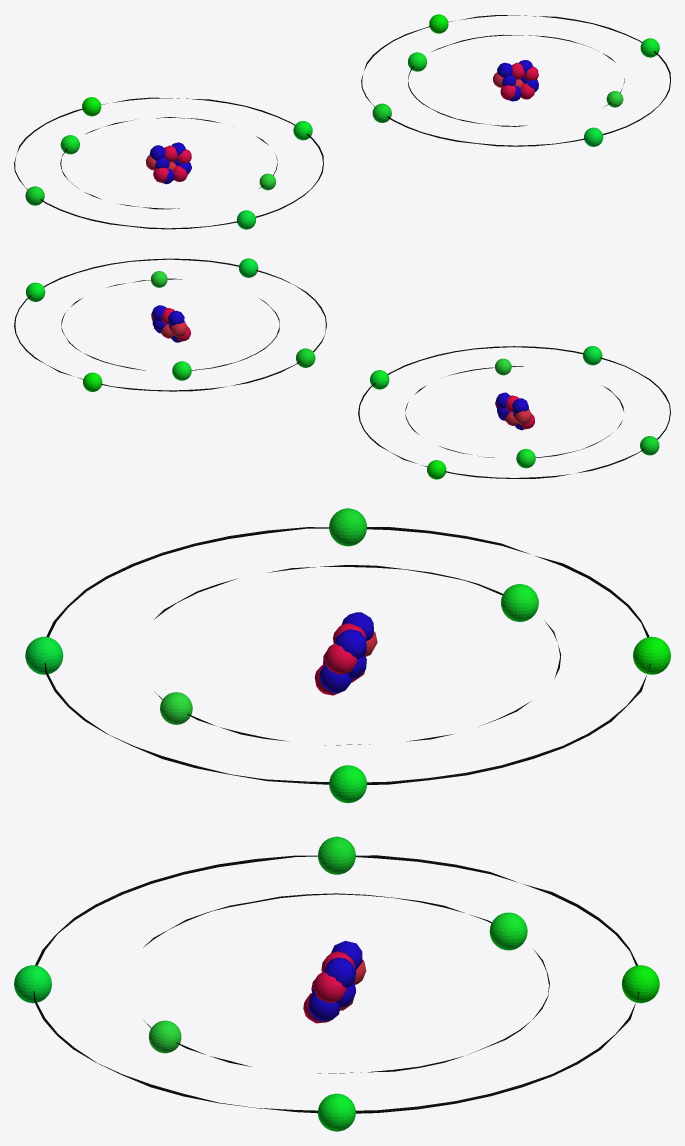
Rendered from atom_bond.glb.
The picture shows the model from 3 angles, top to bottom: view 1: azimuth 30°, elevation 25°; view 2: azimuth 150°, elevation 25°; view 3: azimuth 270°, elevation 25°; orthographic projection. The views are drawn at different scales.
Parts seen in each view (by area): view 1: Sphere.006; view 2: Sphere.006; view 3: Sphere.006.
Part boxes in pixels (<box>): Sphere.006: <box>14,14,670,229</box>; Sphere.006: <box>14,258,670,479</box>; Sphere.006: <box>14,508,670,1131</box>.
Size of the model in its own units: 16.69 by 0.8932 by 7.68.
Materials: 1 (1 with a texture image).
